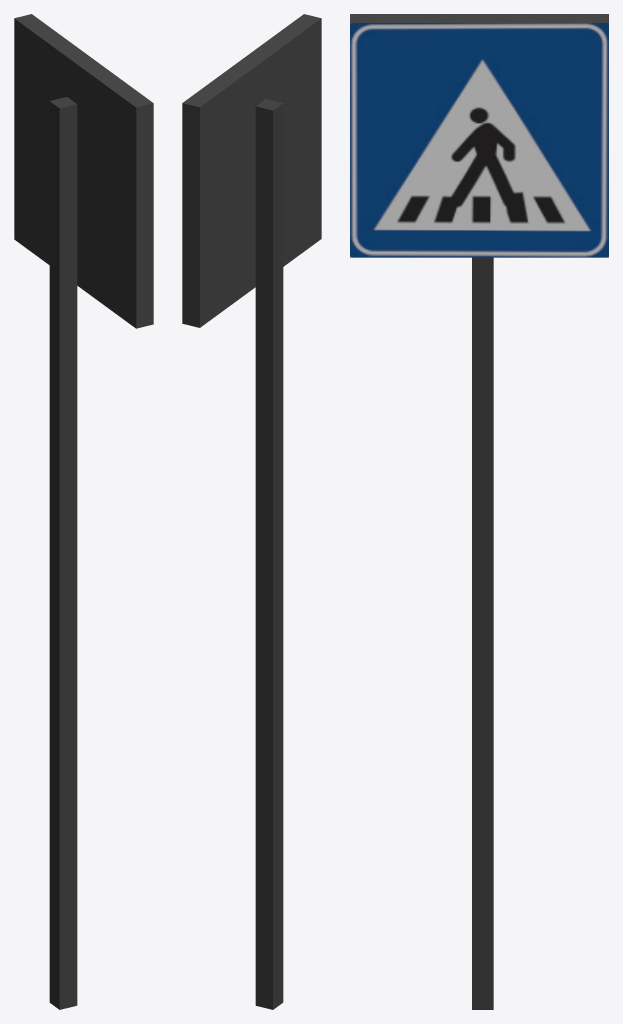
The model's file is yaya_gecidi_levha.dae.
The picture shows the model from 3 angles, left to right: view 1: azimuth 30°, elevation 25°; view 2: azimuth 150°, elevation 25°; view 3: azimuth 270°, elevation 25°; orthographic projection. The views are drawn at different scales.
Parts seen in each view (by area): view 1: Cube, Cube.002; view 2: Cube, Cube.002; view 3: Cube, Cube.002.
Part boxes in pixels (x1,y1,x2,y2): Cube: (14,14,153,328); Cube.002: (49,97,77,1009); Cube: (182,14,321,327); Cube.002: (255,99,283,1009); Cube: (350,14,608,257); Cube.002: (472,257,493,1009).
Bounding box in the file's own units: 0.104 × 0.6 × 2.55.
3 materials, 1 textured.
